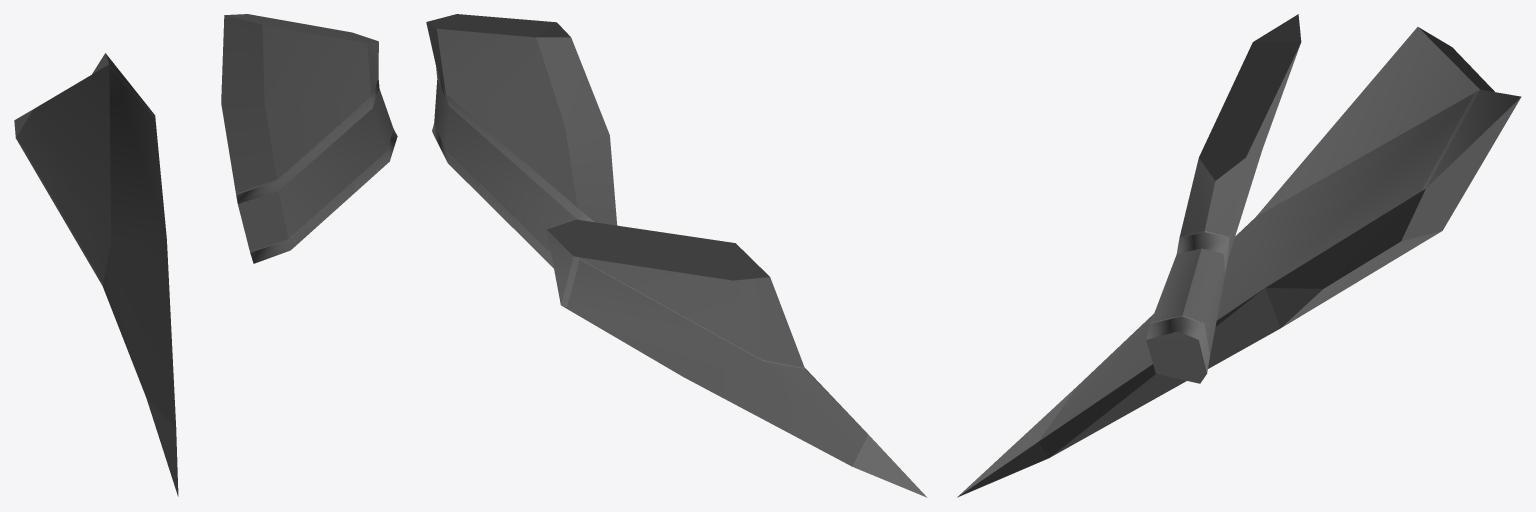
File: void_waste.glb
The picture shows the model from 3 angles, left to right: view 1: azimuth 30°, elevation 25°; view 2: azimuth 150°, elevation 25°; view 3: azimuth 270°, elevation 25°; orthographic projection. The views are drawn at different scales.
Parts seen in each view (by area): view 1: group_13; view 2: group_13; view 3: group_13.
Boxes of the visible parts, bbox=[...] form: group_13: bbox=[14, 14, 397, 496]; group_13: bbox=[426, 14, 927, 497]; group_13: bbox=[957, 14, 1521, 497].
Bounding box in the file's own units: 425 × 481 × 408.
1 material, 1 textured.
